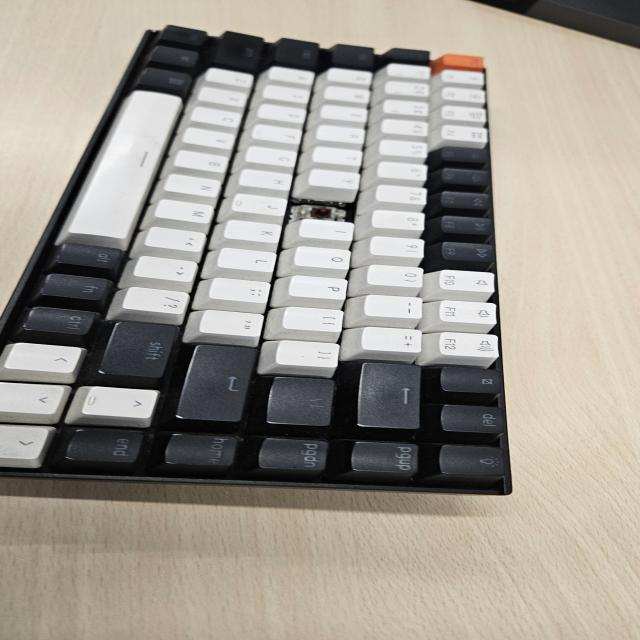C: (292, 201, 354, 220)
